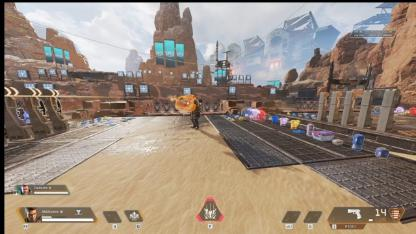Target: (188, 93, 200, 128)
